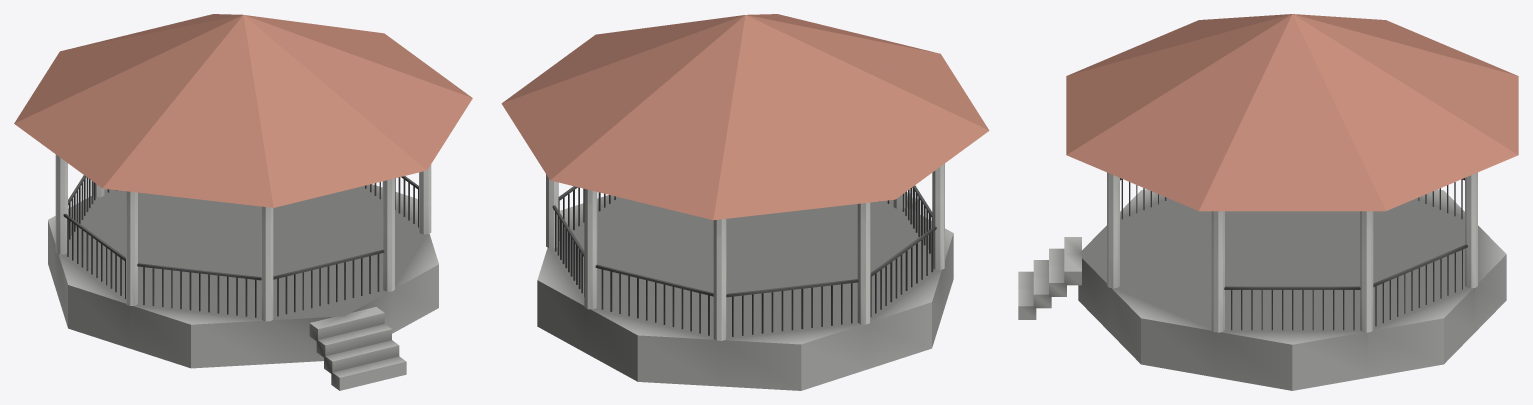
Rendered from coreto.glb.
The picture shows the model from 3 angles, left to right: view 1: azimuth 30°, elevation 25°; view 2: azimuth 150°, elevation 25°; view 3: azimuth 270°, elevation 25°; orthographic projection. The views are drawn at different scales.
Parts seen in each view (by area): view 1: telhado, base, guarda_4, guarda_5, degrau_3, col_5, col_6, degrau_0, degrau_1, col_4, degrau_2, guarda_3 (+4 smaller); view 2: telhado, base, guarda_2, guarda_1, col_2, col_3, col_1, guarda_3, guarda_0, col_4, guarda_4, col_0 (+1 smaller); view 3: telhado, base, col_0, col_7, guarda_7, col_6, col_1, guarda_0, degrau_0, degrau_3, degrau_2, degrau_1.
Part boxes in pixels (left/top/right/bottom): telhado: left=14, top=14, right=472, bottom=207; base: left=48, top=184, right=438, bottom=368; guarda_4: left=137, top=263, right=261, bottom=317; guarda_5: left=273, top=249, right=384, bottom=316; degrau_3: left=331, top=356, right=406, bottom=390; col_5: left=261, top=206, right=273, bottom=321; col_6: left=382, top=178, right=394, bottom=291; degrau_0: left=309, top=307, right=384, bottom=340; degrau_1: left=316, top=324, right=391, bottom=358; col_4: left=126, top=191, right=137, bottom=305; degrau_2: left=324, top=340, right=399, bottom=374; guarda_3: left=63, top=213, right=125, bottom=299; telhado: left=501, top=14, right=989, bottom=220; base: left=537, top=195, right=953, bottom=390; guarda_2: left=726, top=279, right=858, bottom=336; guarda_1: left=595, top=264, right=713, bottom=335; col_2: left=713, top=219, right=726, bottom=340; col_3: left=857, top=202, right=870, bottom=324; col_1: left=584, top=189, right=597, bottom=309; guarda_3: left=870, top=226, right=936, bottom=316; guarda_0: left=552, top=205, right=584, bottom=296; col_4: left=932, top=163, right=944, bottom=269; guarda_4: left=902, top=185, right=932, bottom=253; col_0: left=546, top=174, right=558, bottom=248; telhado: left=1066, top=14, right=1518, bottom=211; base: left=1078, top=189, right=1506, bottom=390; col_0: left=1360, top=211, right=1373, bottom=332; col_7: left=1211, top=211, right=1224, bottom=332; guarda_7: left=1224, top=286, right=1360, bottom=330; col_6: left=1107, top=172, right=1119, bottom=288; col_1: left=1465, top=172, right=1477, bottom=288; guarda_0: left=1373, top=244, right=1467, bottom=326; degrau_0: left=1064, top=237, right=1081, bottom=285; degrau_3: left=1018, top=271, right=1036, bottom=319; degrau_2: left=1033, top=260, right=1051, bottom=308; degrau_1: left=1049, top=248, right=1066, bottom=296.
Size of what is drawn, in the model's own units: 8.87 by 6.25 by 9.81.
